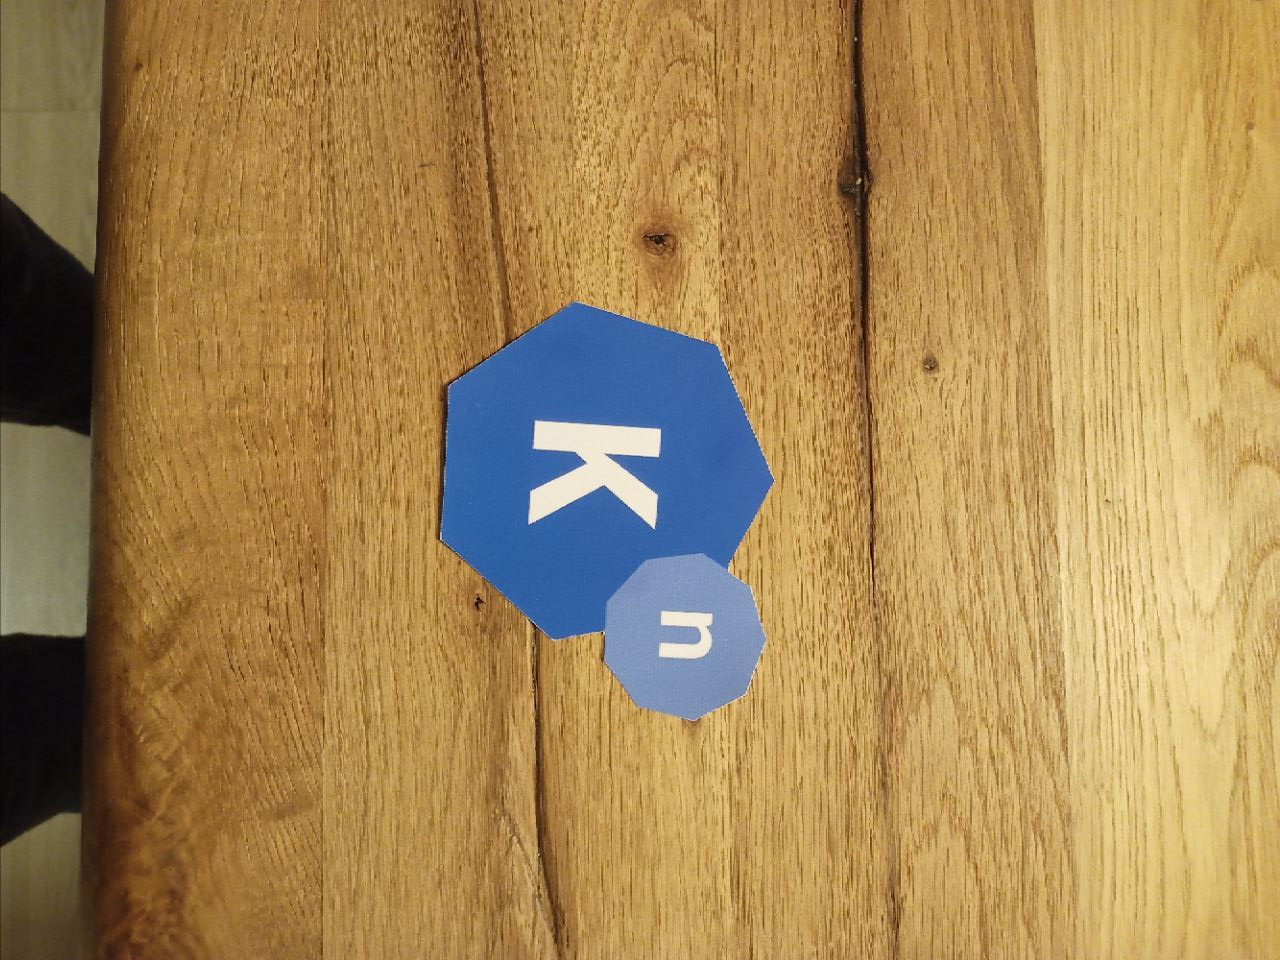knative: (437, 299, 773, 722)
